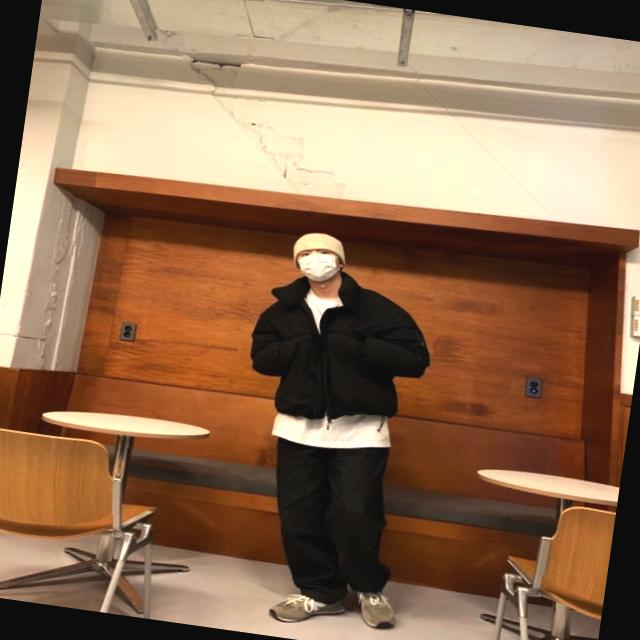denimpants: (254, 428, 410, 614)
padding: (243, 260, 440, 438)
